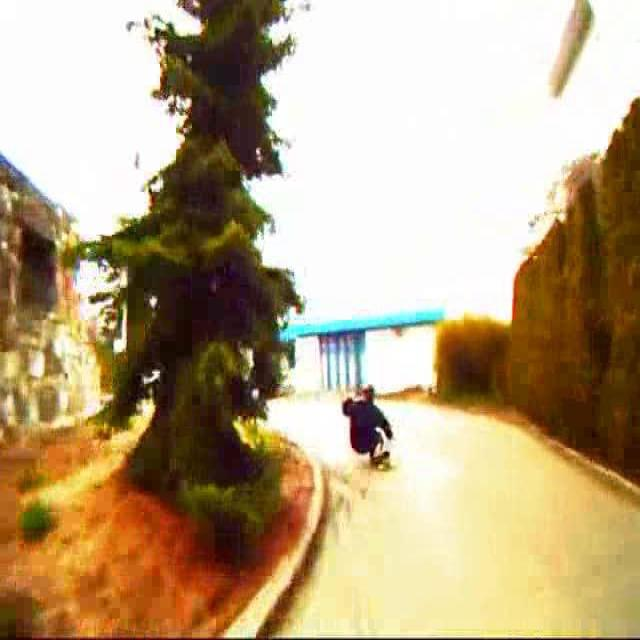other: (363, 311, 442, 440)
